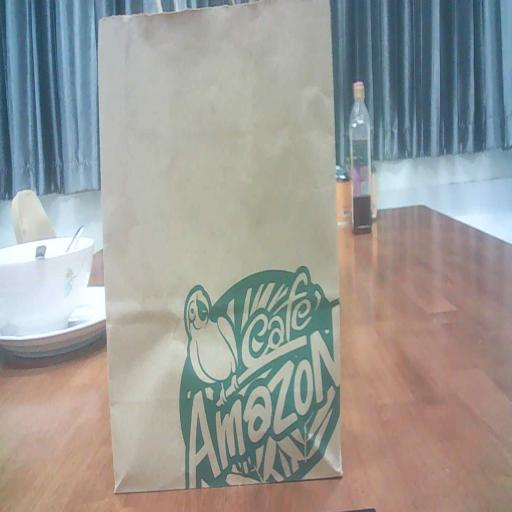bag: (94, 0, 350, 504)
